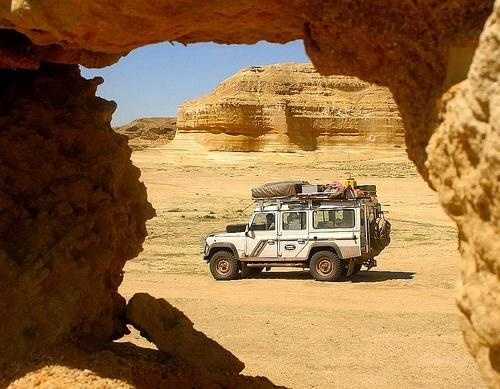car: (204, 181, 392, 282)
